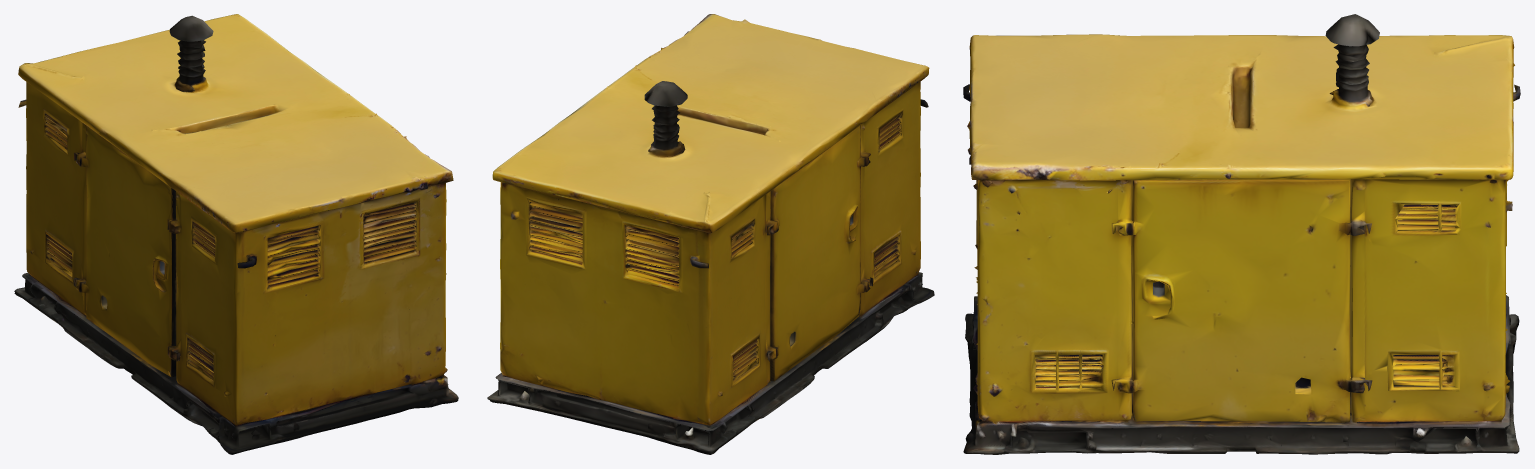
File: generator_diesel.fbx
3 renders of one model, left to right at view 1: azimuth 30°, elevation 25°; view 2: azimuth 150°, elevation 25°; view 3: azimuth 270°, elevation 25°, orthographic. The views are drawn at different scales.
Visible parts, largest first — view 1: generator_diesel; view 2: generator_diesel; view 3: generator_diesel.
Part boxes in pixels (x1=…): generator_diesel: x1=14, y1=14, x2=458, y2=454; generator_diesel: x1=487, y1=14, x2=934, y2=454; generator_diesel: x1=963, y1=14, x2=1520, y2=454.
Size of the model in its own units: 2.38 by 2.92 by 4.
1 material, 1 textured.
